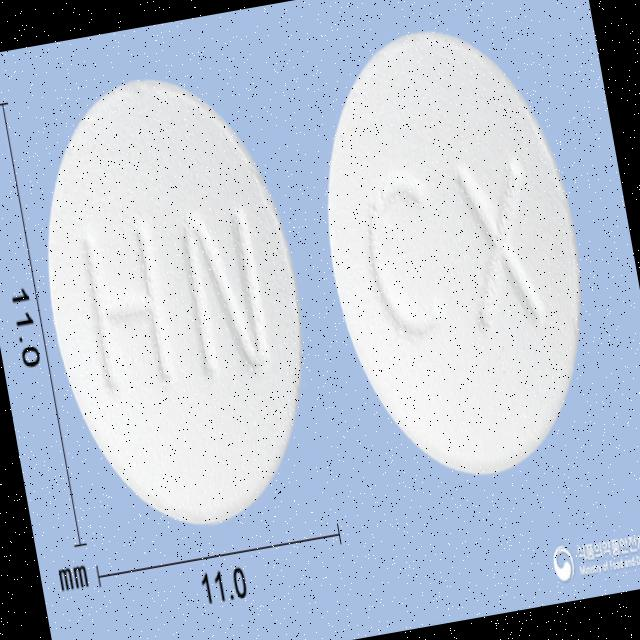Cipron: (290, 5, 620, 503), (11, 55, 338, 549)
